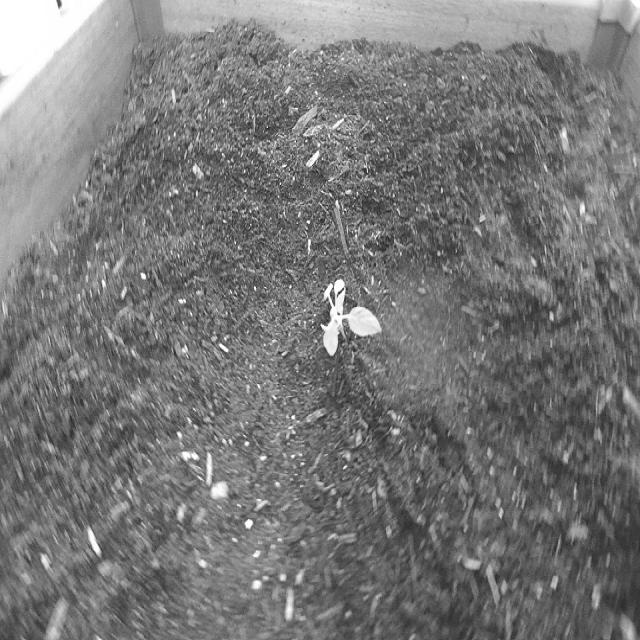Healthy: (310, 261, 389, 380)
